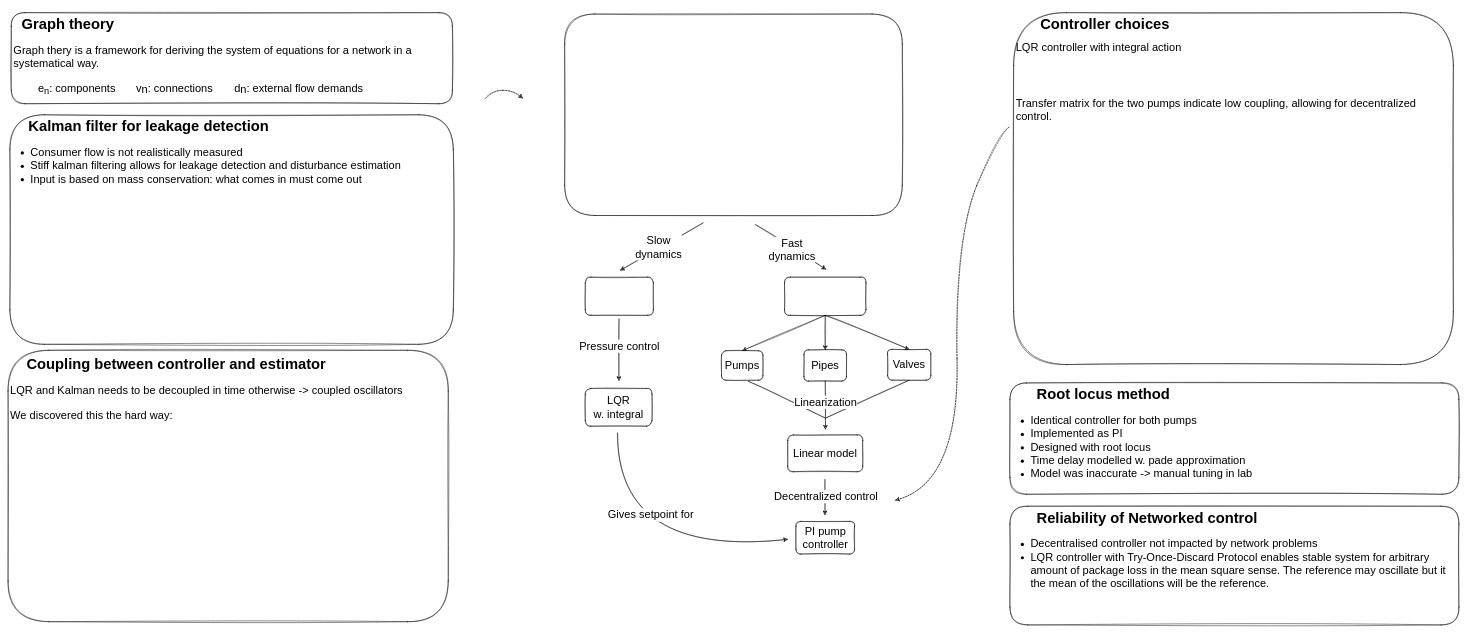
Image size: 1467x633. Some labels were removed from this diagram. The centre of each missing label's shape, as x and y in pixels:
Components: point (825, 296)
Tank: point (619, 296)
